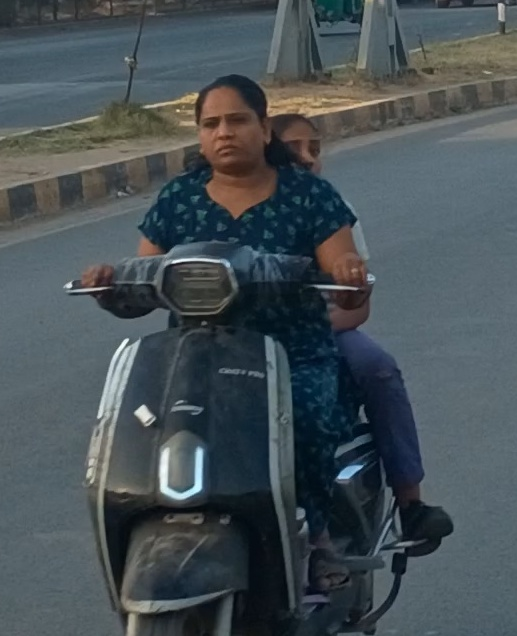BikeWithRider: (51, 65, 464, 636)
NoHelmet: (182, 66, 276, 173), (256, 105, 336, 186)
